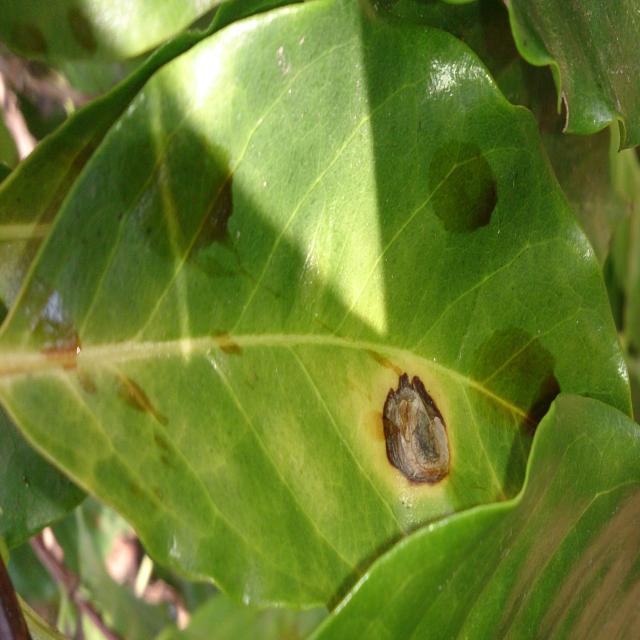Enfermedad-Mancha-de-hierro: (0, 0, 633, 615)
